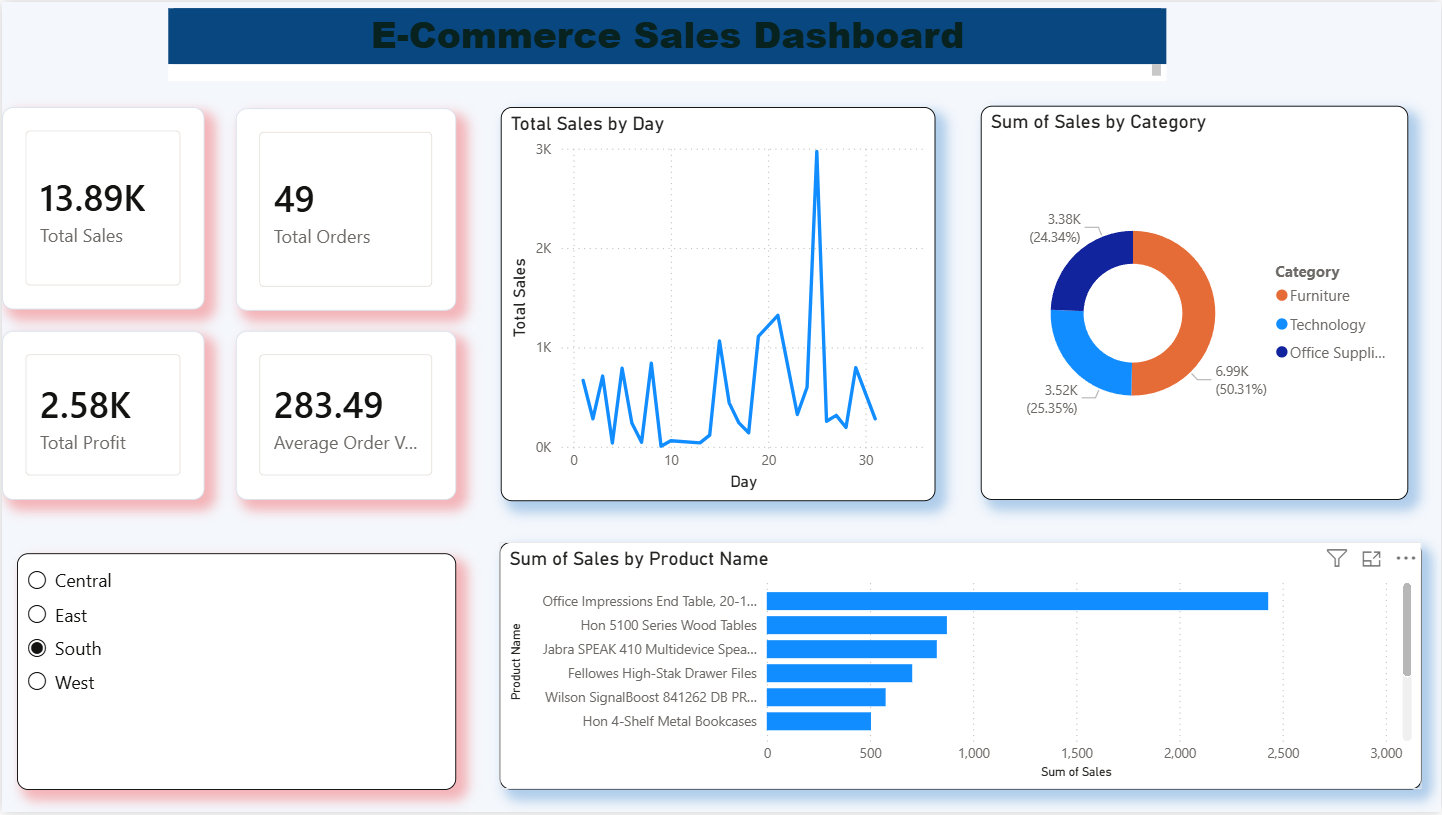

Layout of this report page (visuals, bound fields, positions):
{"tool":"powerbi","page":{"name":"Page 1","canvas":[1280,720],"ordinal":0},"visuals":[{"type":"cardVisual","fields":{"Data":["cleaned_ecommerce.Total Sales"]},"box":[0,93.3,180,180],"z":0},{"type":"cardVisual","fields":{"Data":["cleaned_ecommerce.Total Orders"]},"box":[208,94,196,180],"z":1000},{"type":"cardVisual","fields":{"Data":["cleaned_ecommerce.Total Profit"]},"box":[0,292,180,150],"z":2000},{"type":"lineChart","fields":{"Category":["cleaned_ecommerce.Order Date.Variation.Date Hierarchy.Year","cleaned_ecommerce.Order Date.Variation.Date Hierarchy.Quarter","cleaned_ecommerce.Order Date.Variation.Date Hierarchy.Month","cleaned_ecommerce.Order Date.Variation.Date Hierarchy.Day"],"Y":["cleaned_ecommerce.Total Sales"]},"box":[443.3,93.3,386.7,350],"z":3000},{"type":"donutChart","fields":{"Category":["cleaned_ecommerce.Category"],"Y":["Sum(cleaned_ecommerce.Sales)"]},"box":[870,92.5,380,350],"z":4000},{"type":"clusteredBarChart","fields":{"Category":["cleaned_ecommerce.Product Name"],"Y":["Sum(cleaned_ecommerce.Sales)"]},"box":[442.5,480,820,220],"z":5000},{"type":"cardVisual","fields":{"Data":["cleaned_ecommerce.Average Order Value"]},"box":[208,292,196,150],"z":6000},{"type":"listSlicer","fields":{"Values":["cleaned_ecommerce.Region"]},"box":[13.3,490,390,210],"z":6001},{"type":"textbox","title":"E-Commerce Sales Dashboard","box":[147.5,5,887.5,65],"z":6002}]}

Visuals, with their boxes in screenshot pixels (x1, y1, x2, y2), scaled from the page's 1280x720 canvas onto the 1442x815 screenshot:
cardVisual - cleaned_ecommerce.Total Sales: 0 106 203 309
cardVisual - cleaned_ecommerce.Total Orders: 234 106 455 310
cardVisual - cleaned_ecommerce.Total Profit: 0 331 203 500
lineChart - cleaned_ecommerce.Order Date.Variation.Date Hierarchy.Year x cleaned_ecommerce.Order Date.Variation.Date Hierarchy.Quarter: 499 106 935 502
donutChart - cleaned_ecommerce.Category x Sum(cleaned_ecommerce.Sales): 980 105 1408 501
clusteredBarChart - cleaned_ecommerce.Product Name x Sum(cleaned_ecommerce.Sales): 499 543 1422 792
cardVisual - cleaned_ecommerce.Average Order Value: 234 331 455 500
listSlicer - cleaned_ecommerce.Region: 15 555 454 792
"E-Commerce Sales Dashboard" textbox: 166 6 1166 79
